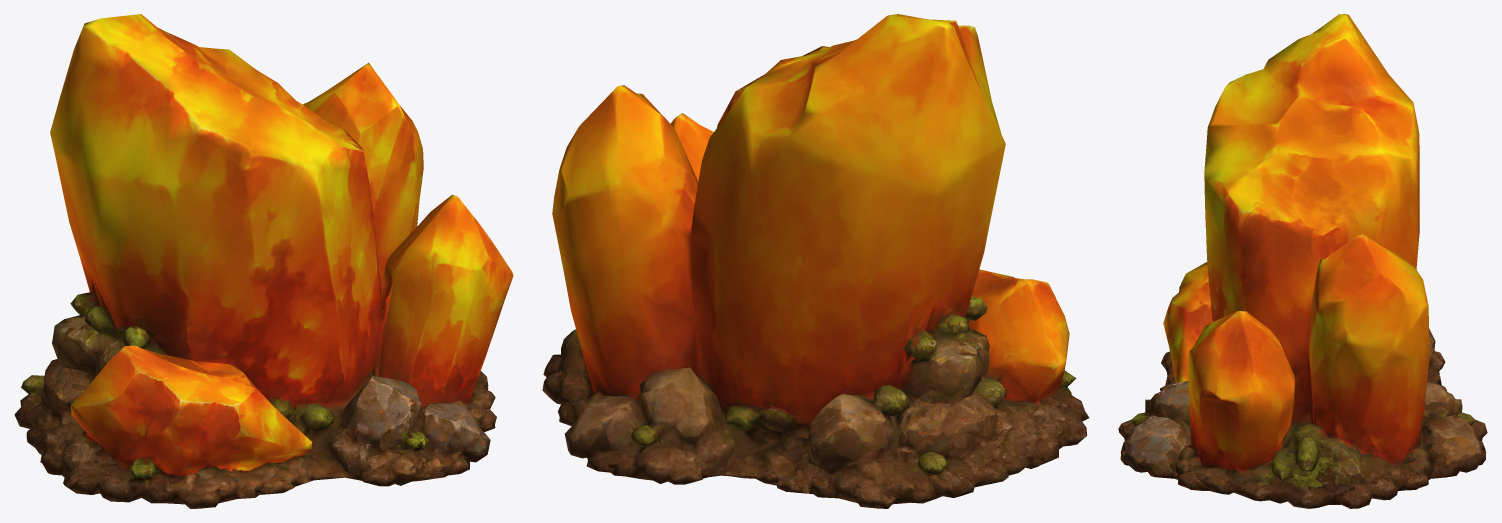
File: source_2.glb
3 views of the same model, side by side, from view 1: azimuth 30°, elevation 25°; view 2: azimuth 150°, elevation 25°; view 3: azimuth 270°, elevation 25° (orthographic). The views are drawn at different scales.
Parts seen in each view (by area): view 1: tripo_node_61d71f39-cb7f-4816-8f58-62130226ffb0; view 2: tripo_node_61d71f39-cb7f-4816-8f58-62130226ffb0; view 3: tripo_node_61d71f39-cb7f-4816-8f58-62130226ffb0.
Boxes of the visible parts, box(x1,y1,x2,y2) form: tripo_node_61d71f39-cb7f-4816-8f58-62130226ffb0: box(14, 14, 513, 508); tripo_node_61d71f39-cb7f-4816-8f58-62130226ffb0: box(542, 14, 1089, 508); tripo_node_61d71f39-cb7f-4816-8f58-62130226ffb0: box(1118, 14, 1487, 508).
Size of the model in its own units: 0.981 by 0.8832 by 0.8412.
1 material, 1 textured.
